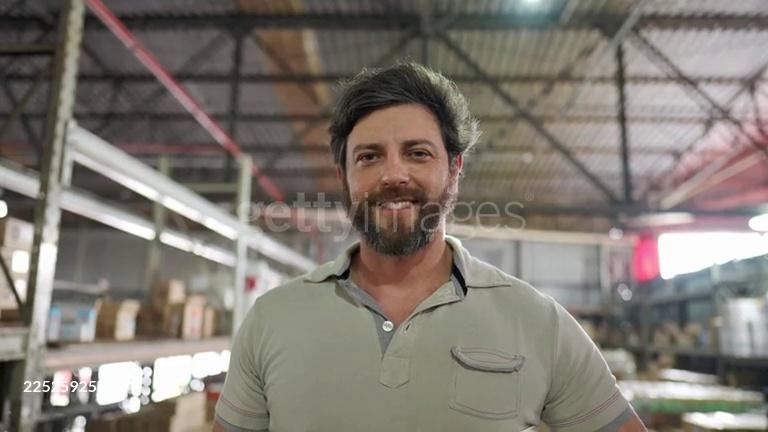person: (212, 58, 648, 432)
